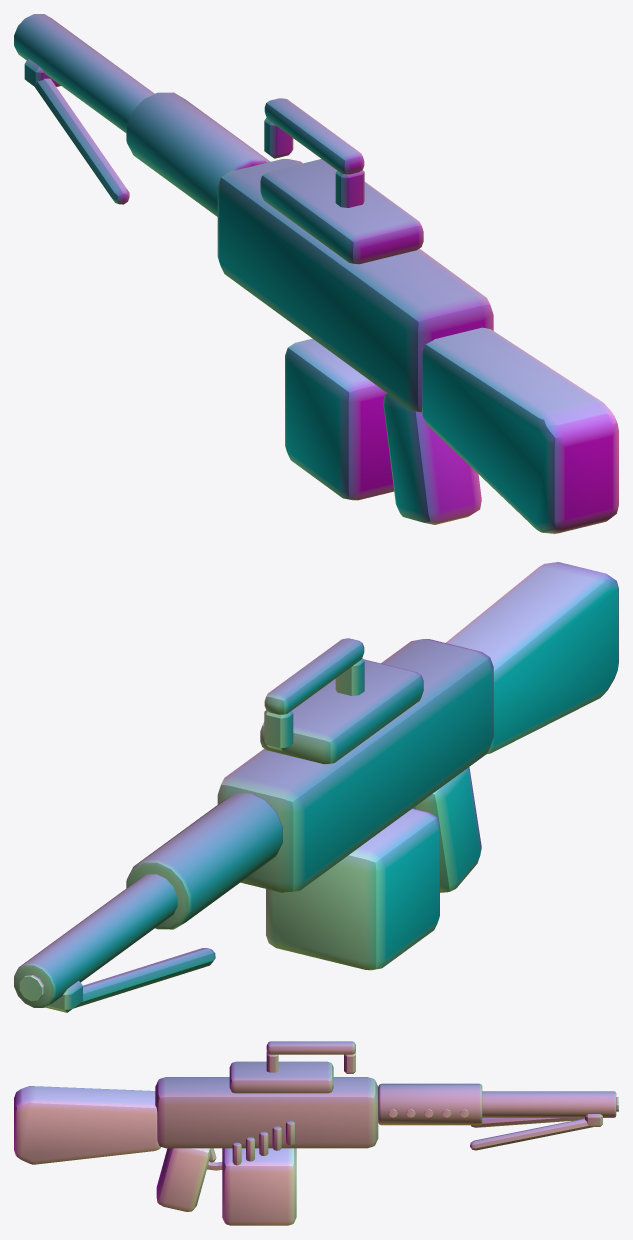
File: wpn_lmg.glb
3 renders of one model, top to bottom at view 1: azimuth 30°, elevation 25°; view 2: azimuth 150°, elevation 25°; view 3: azimuth 270°, elevation 25°, orthographic. The views are drawn at different scales.
Visible parts, largest first — view 1: wpn_lmg_mesh; view 2: wpn_lmg_mesh; view 3: wpn_lmg_mesh.
Part boxes in pixels (x1=…): wpn_lmg_mesh: x1=14, y1=14, x2=618, y2=533; wpn_lmg_mesh: x1=14, y1=562, x2=618, y2=1012; wpn_lmg_mesh: x1=14, y1=1041, x2=618, y2=1225.
Size of the model in its own units: 0.0504 by 0.125 by 0.4068.
